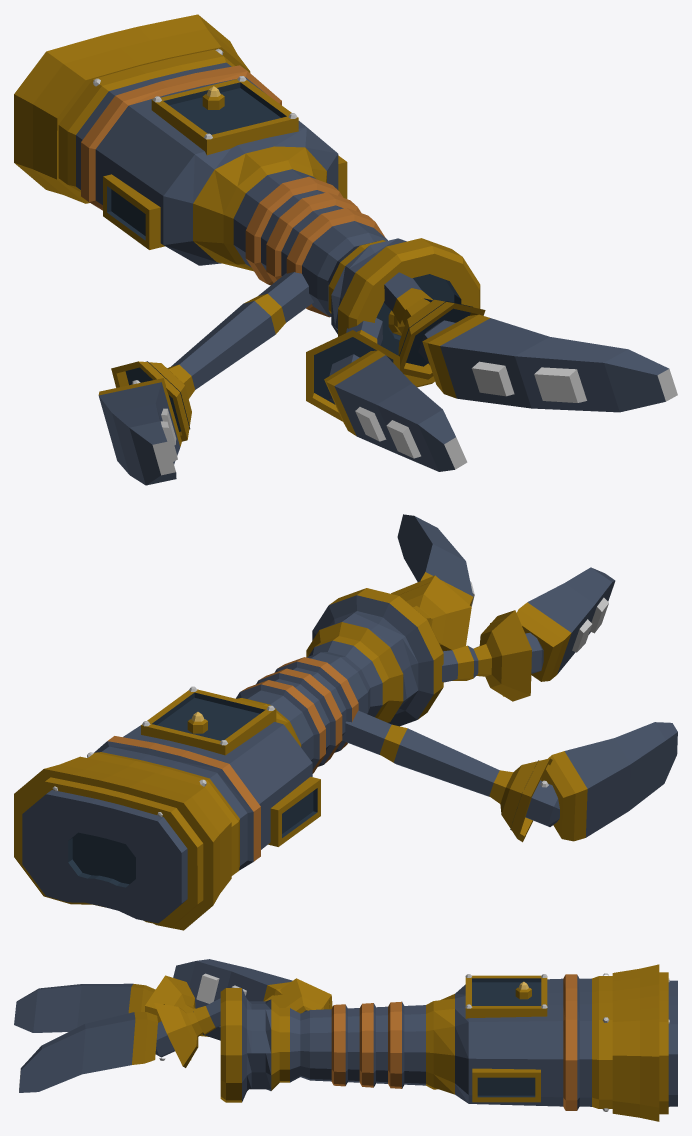
File: mechanical-finger-extender-base-6471f4.glb
3 renders of one model, top to bottom at view 1: azimuth 30°, elevation 25°; view 2: azimuth 150°, elevation 25°; view 3: azimuth 270°, elevation 25°, orthographic. The views are drawn at different scales.
Visible parts, largest first — view 1: wrist, middle-finger-phalanx-proximal, index-finger-phalanx-proximal, thumb-metacarpal, thumb-phalanx-proximal; view 2: wrist, thumb-phalanx-proximal, thumb-metacarpal, index-finger-phalanx-proximal, middle-finger-phalanx-proximal; view 3: wrist, middle-finger-phalanx-proximal, index-finger-phalanx-proximal, thumb-phalanx-proximal, thumb-metacarpal.
Part boxes in pixels (<box>): wrist: <box>14,14,485,421</box>; middle-finger-phalanx-proximal: <box>418,314,677,412</box>; index-finger-phalanx-proximal: <box>324,350,467,471</box>; thumb-metacarpal: <box>111,272,313,441</box>; thumb-phalanx-proximal: <box>98,378,181,485</box>; wrist: <box>14,575,531,930</box>; thumb-phalanx-proximal: <box>525,722,677,841</box>; thumb-metacarpal: <box>342,710,552,842</box>; index-finger-phalanx-proximal: <box>516,567,615,681</box>; middle-finger-phalanx-proximal: <box>397,514,474,606</box>; wrist: <box>145,964,677,1121</box>; middle-finger-phalanx-proximal: <box>19,1012,174,1092</box>; index-finger-phalanx-proximal: <box>14,983,155,1032</box>; thumb-phalanx-proximal: <box>173,959,292,1008</box>; thumb-metacarpal: <box>264,978,332,1013</box>.
Size of the model in its own units: 0.0924 by 0.0425 by 0.1707.
